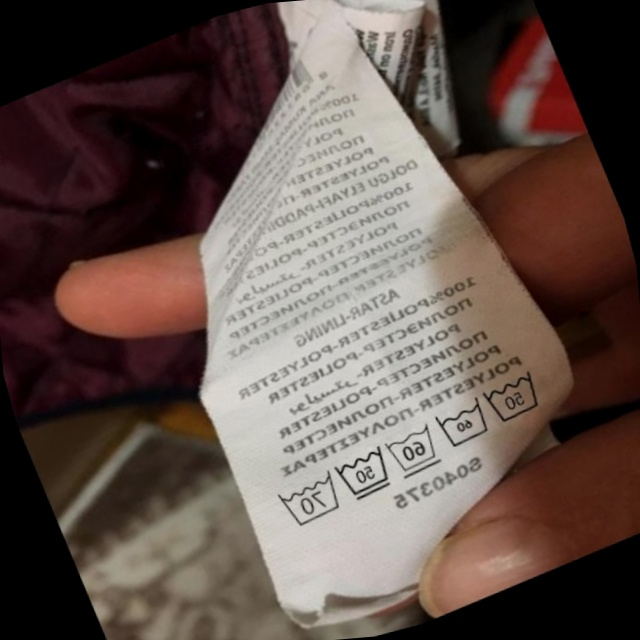50C: (472, 359, 555, 434), (326, 439, 402, 510)
60C: (375, 416, 448, 486), (426, 390, 499, 458)
70C: (266, 466, 349, 537)
